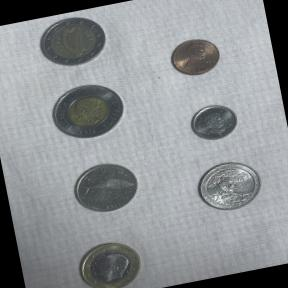1 Euro-B: (69, 231, 149, 288)
2 Euro-B: (32, 7, 114, 74)
Canada-10cent-B: (184, 97, 243, 146)
Canada-2Dollar-B: (44, 75, 134, 148)
Croatia-2Kune-B: (64, 152, 146, 222)
US-1cent-B: (164, 30, 226, 82)
US-25cent-B: (187, 152, 268, 219)
